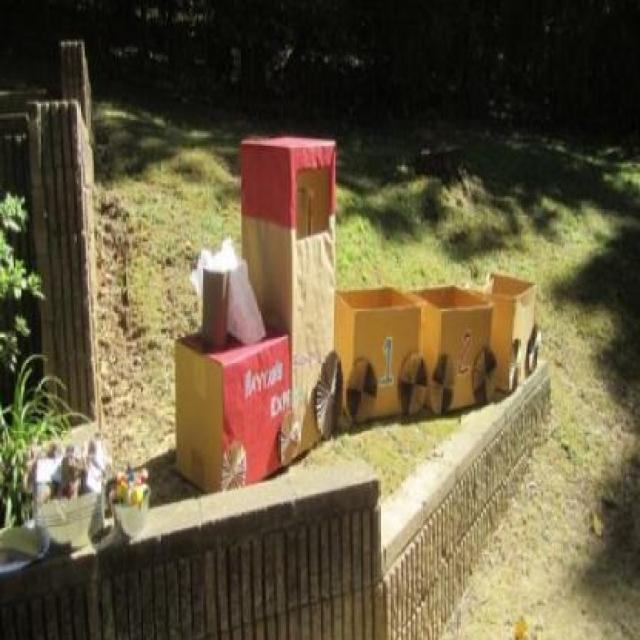box: (236, 127, 349, 472), (172, 322, 292, 485), (336, 276, 426, 458), (417, 254, 492, 436), (488, 247, 550, 408)
